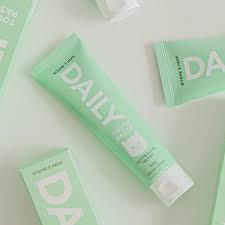toothpaste: (27, 32, 195, 205), (147, 25, 225, 109)
